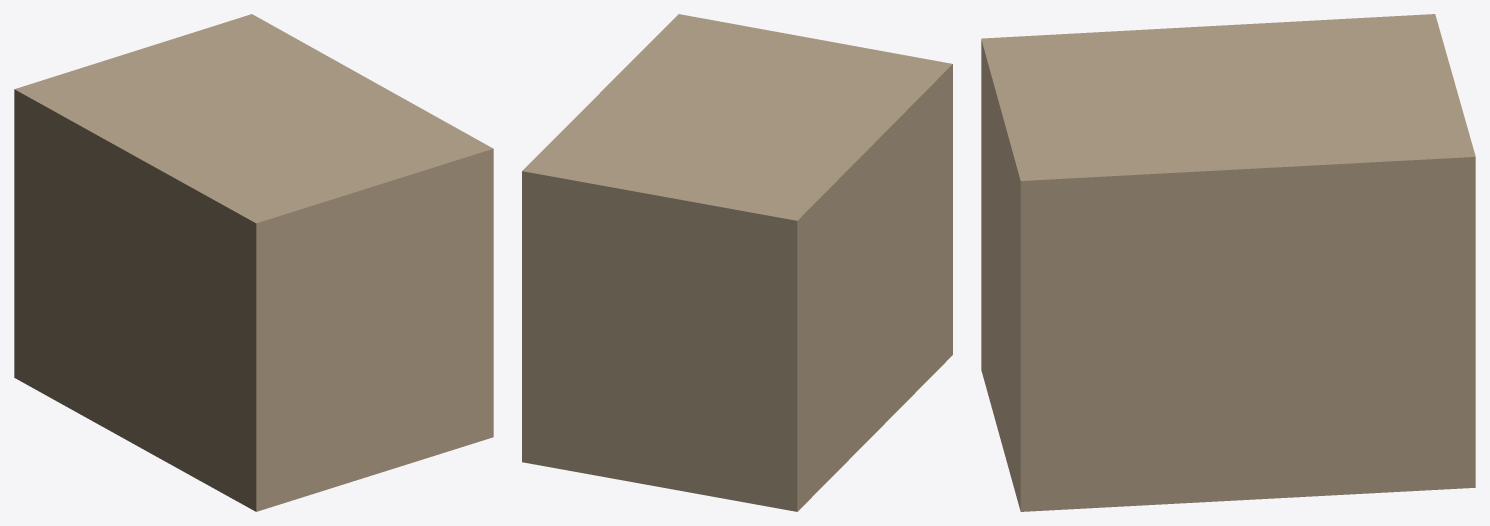
The model's file is bld_109053858.dae.
The picture shows the model from 3 angles, left to right: view 1: azimuth 30°, elevation 25°; view 2: azimuth 150°, elevation 25°; view 3: azimuth 270°, elevation 25°; orthographic projection. The views are drawn at different scales.
Parts seen in each view (by area): view 1: bld_109053858; view 2: bld_109053858; view 3: bld_109053858.
Boxes of the visible parts, x1=… form: bld_109053858: x1=14, y1=14, x2=493, y2=511; bld_109053858: x1=522, y1=14, x2=952, y2=511; bld_109053858: x1=981, y1=14, x2=1475, y2=511.
Size of the model in its own units: 8.66 by 10.84 by 8.
